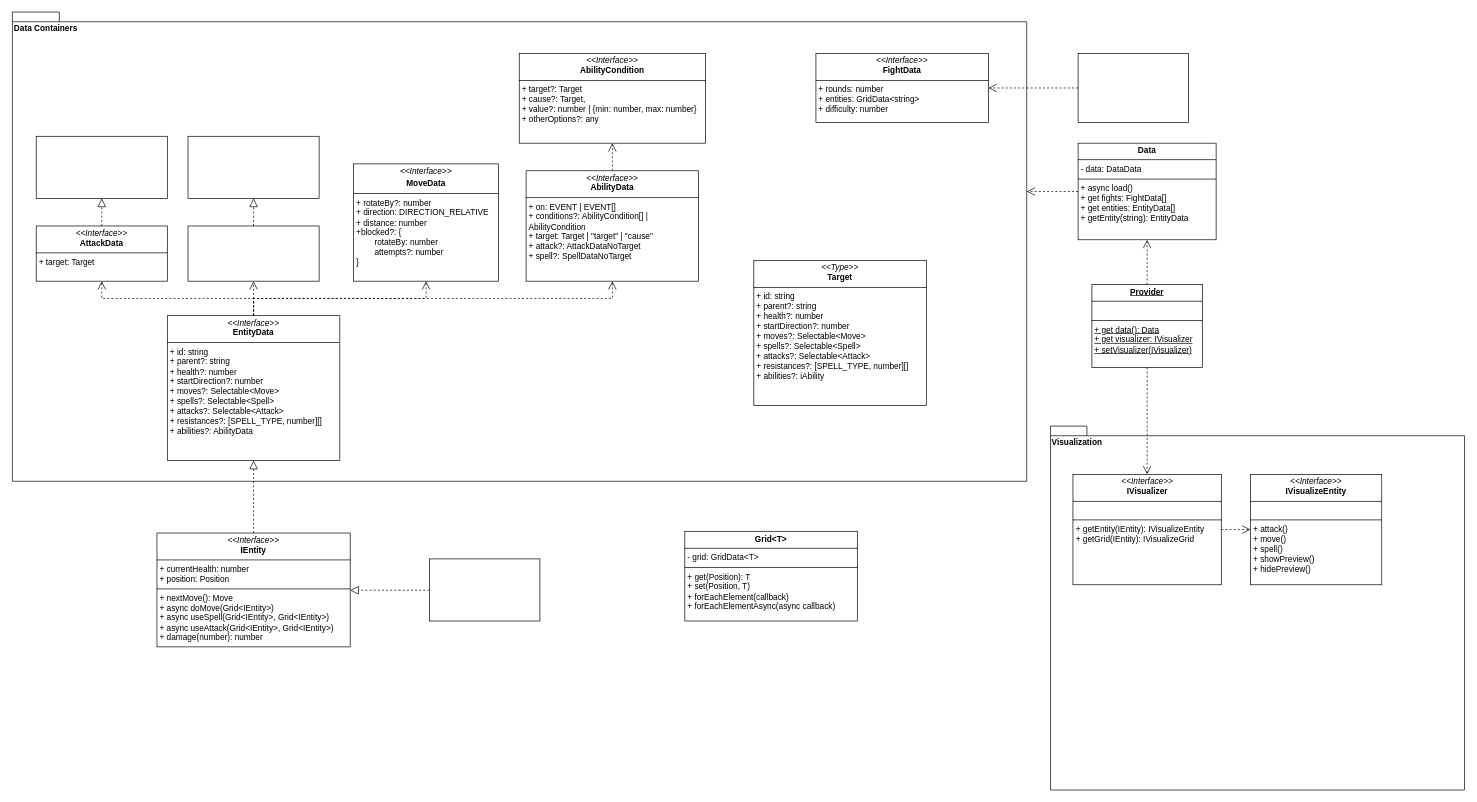
The diagram is 1477 pixels wide and 802 high, and some of its shapes have lost their labels. The shapes that lost their labels are listed below. From the top down, each one's centre as x and y in pixels, then its label:
the point at 1133,87: Fight + rounds: number + arena: Arena + async run()
the point at 101,167: <<Interface>> AttackDataNoTarget + baseDamage: number + baseCritChance?: number
the point at 253,167: <<Interface>> SpellDataNoTarget + type: SPELL_TYPE + level?: number
the point at 253,253: <<Interface>> SpellData + target: Target
the point at 484,589: Entity # visualizer: IVisualizeEntity + method(): Type
